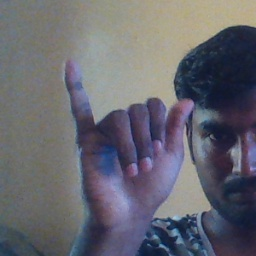J: (61, 58, 196, 218)
